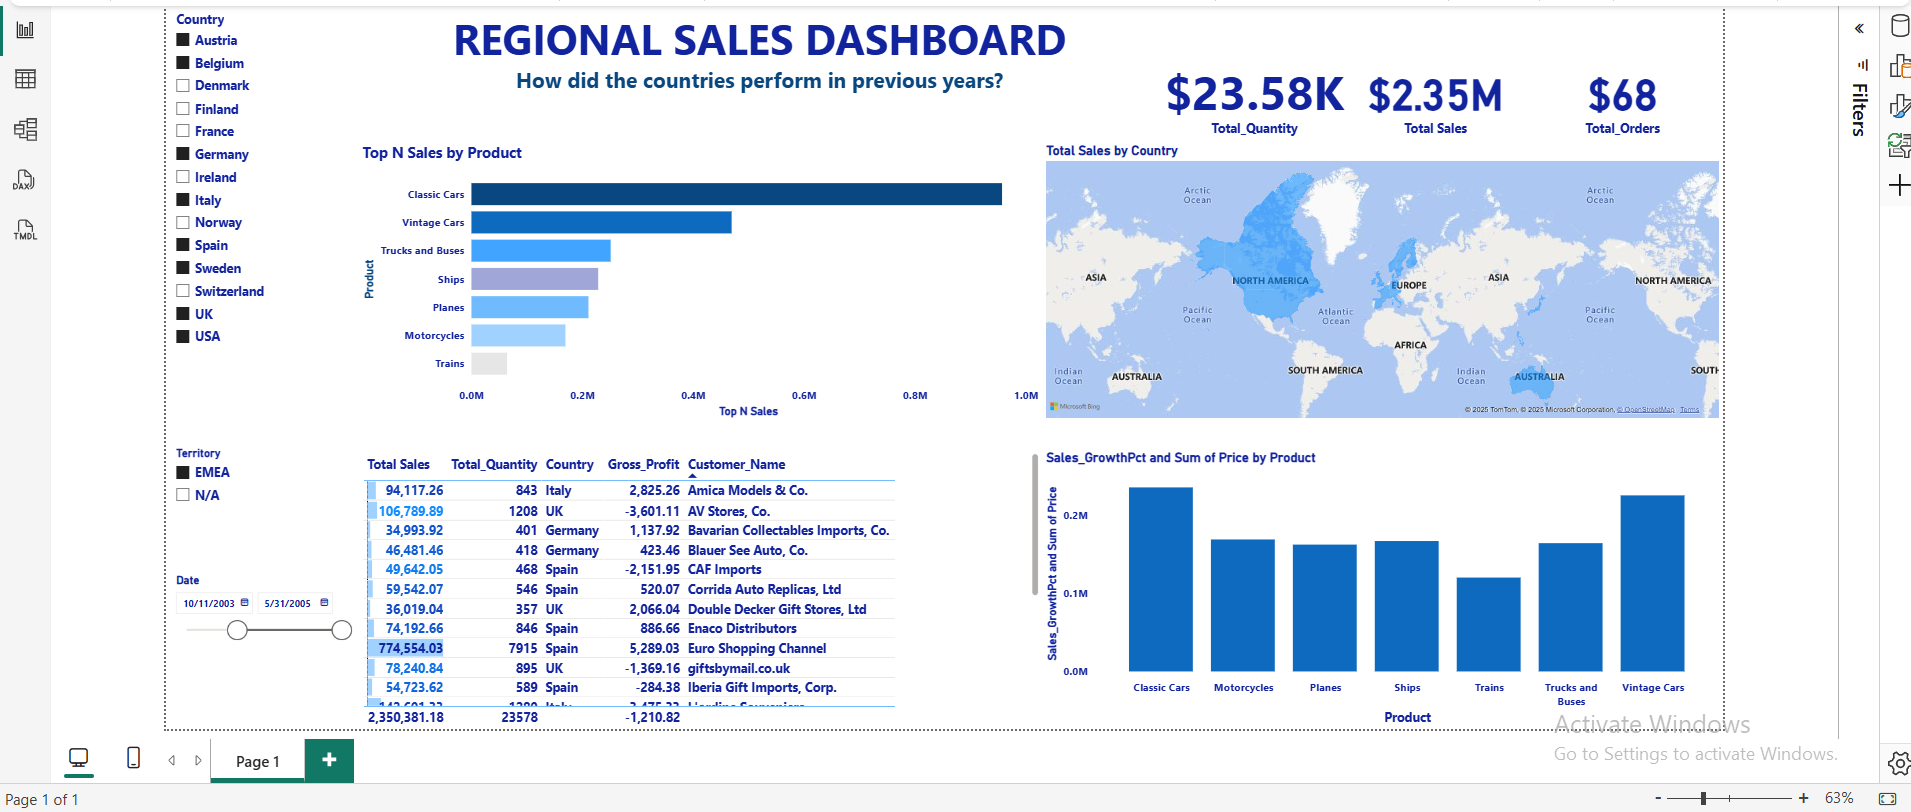

This screenshot's page, from the dashboard's own definition file:
{"tool":"powerbi","page":{"name":"Page 1","canvas":[1980,920],"ordinal":0},"visuals":[{"type":"barChart","fields":{"Category":["Sales-Data.Product"],"Y":["Sales-Data.Top N Sales"]},"box":[244.3,172.9,870,355.7],"z":1000},{"type":"filledMap","fields":{"Category":["Dim_SalesTerritory.Country"],"Y":["Sales-Data.Total Sales"]},"box":[1114.3,172.9,865.7,355.7],"z":2000},{"type":"columnChart","fields":{"Category":["Dim_Product.Product"],"Y":["Sales-Data.Sales_GrowthPct","Sum(Fact_Sales.Price)"]},"box":[1114.3,564.3,865.7,355.7],"z":3000},{"type":"card","fields":{"Values":["Sales-Data.Total Sales"]},"box":[1505.7,60,218.6,112.9],"z":4000},{"type":"card","fields":{"Values":["Sales-Data.Total_Quantity"]},"box":[1264.3,60,241.4,112.9],"z":5000},{"type":"card","fields":{"Values":["Sales-Data.Total_Orders"]},"box":[1724.3,60,255.7,112.9],"z":6000},{"type":"slicer","fields":{"Values":["Sales-Data.Date"]},"box":[0,717.1,244.3,154.3],"z":7000},{"type":"slicer","fields":{"Values":["Sales-Data.Country"]},"box":[0,0,244.3,528.6],"z":8000},{"type":"textbox","box":[244.3,0,1020,160],"z":9000},{"type":"tableEx","fields":{"Values":["Sales-Data.Total Sales","Sales-Data.Total_Orders","Sales-Data.Total_Quantity","Sales-Data.Country","Sales-Data.Gross_Profit","Sales-Data.Customer_Name"]},"box":[244.3,564.3,870,355.7],"z":10000},{"type":"slicer","fields":{"Values":["Sales-Data.Territory"]},"box":[0,554.3,245.7,141.4],"z":11000}]}

Visuals, with their boxes on the page's 1980x920 design canvas (x1, y1, x2, y2). These are canvas units, not pixel positions in the 1911x812 screenshot, which may show the page scaled, cropped or inside an application window:
barChart - Sales-Data.Product x Sales-Data.Top N Sales: [244, 173, 1114, 529]
filledMap - Dim_SalesTerritory.Country x Sales-Data.Total Sales: [1114, 173, 1980, 529]
columnChart - Dim_Product.Product x Sales-Data.Sales_GrowthPct: [1114, 564, 1980, 920]
card - Sales-Data.Total Sales: [1506, 60, 1724, 173]
card - Sales-Data.Total_Quantity: [1264, 60, 1506, 173]
card - Sales-Data.Total_Orders: [1724, 60, 1980, 173]
slicer - Sales-Data.Date: [0, 717, 244, 871]
slicer - Sales-Data.Country: [0, 0, 244, 529]
textbox: [244, 0, 1264, 160]
tableEx - Sales-Data.Total Sales x Sales-Data.Total_Orders: [244, 564, 1114, 920]
slicer - Sales-Data.Territory: [0, 554, 246, 696]
